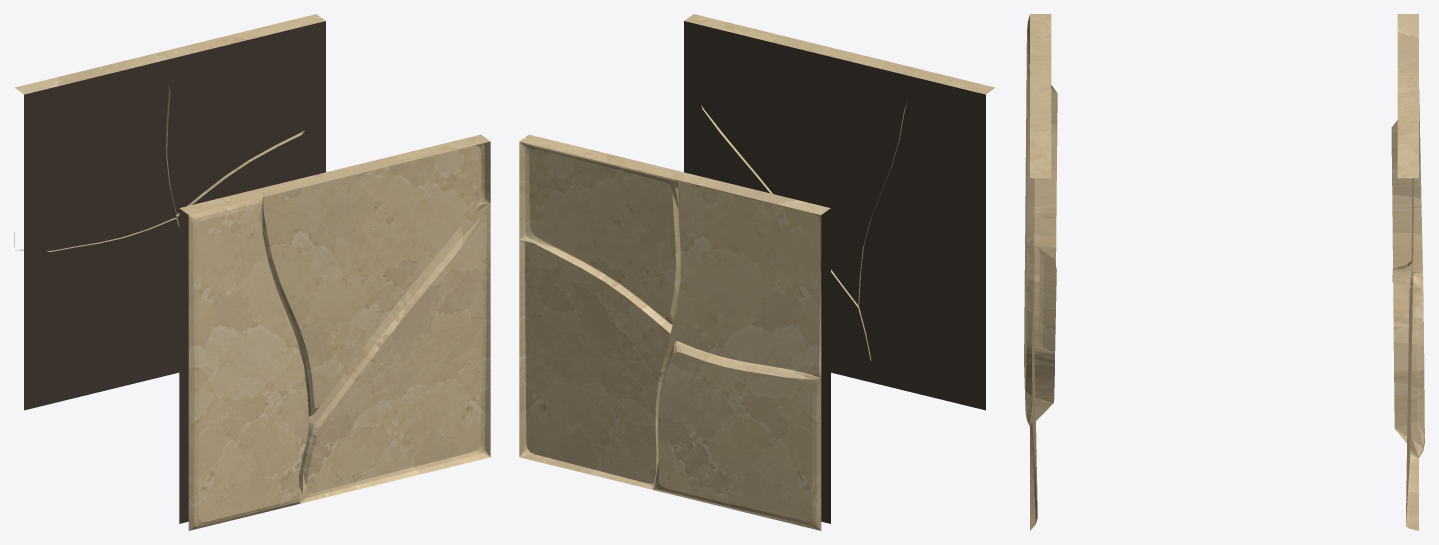
File: ground_square_strip_08.glb
3 renders of one model, left to right at view 1: azimuth 30°, elevation 25°; view 2: azimuth 150°, elevation 25°; view 3: azimuth 270°, elevation 25°, orthographic. The views are drawn at different scales.
Parts seen in each view (by area): view 1: GroundSquareStrip08_Body; view 2: GroundSquareStrip08_Body; view 3: GroundSquareStrip08_Body.
Boxes of the visible parts, x1,y1,x2,y2 form: GroundSquareStrip08_Body: (14,14,490,530); GroundSquareStrip08_Body: (519,14,994,530); GroundSquareStrip08_Body: (1024,14,1424,530).
Bounding box in the file's own units: 1 × 1 × 1.03.
9 materials, 8 textured.
